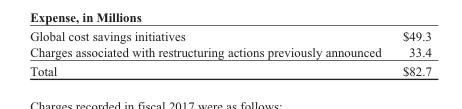table: (29, 28, 430, 77)
table column: (29, 28, 391, 77), (391, 28, 430, 77)
table row: (29, 43, 430, 61), (29, 61, 430, 77), (29, 28, 430, 43)
